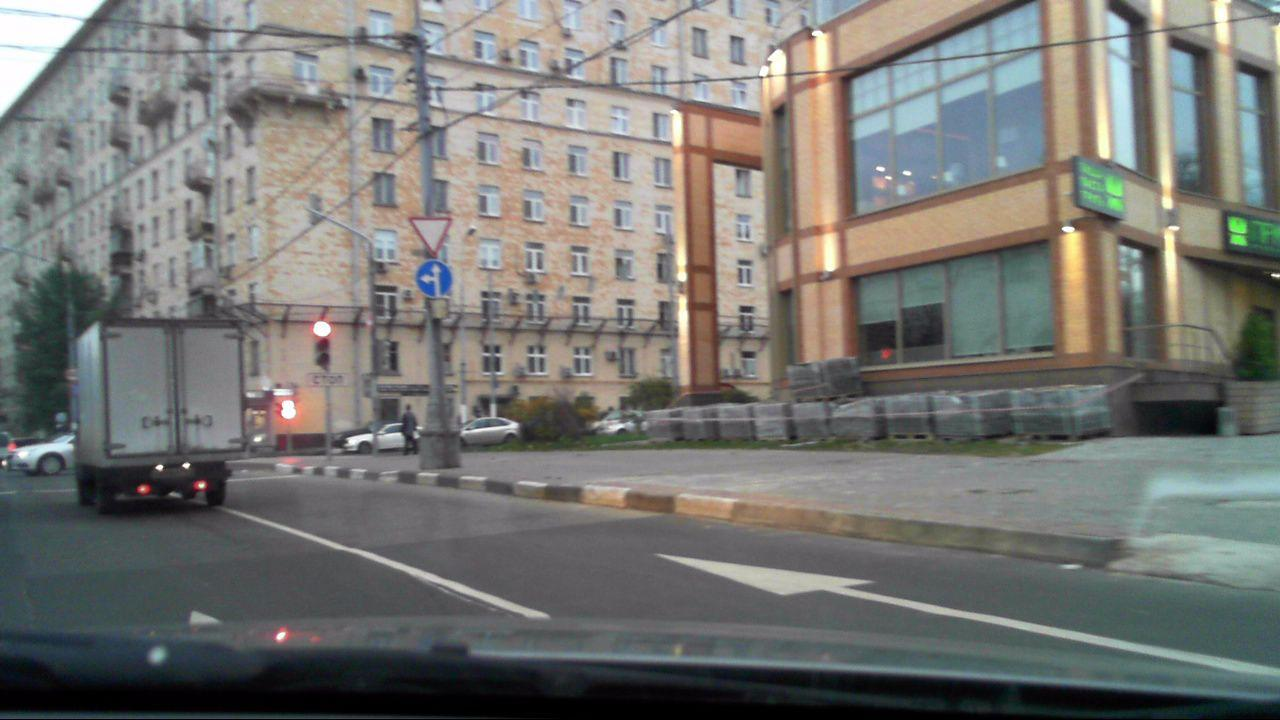2_4: (410, 209, 454, 251)
4_1_5: (416, 261, 454, 297)
